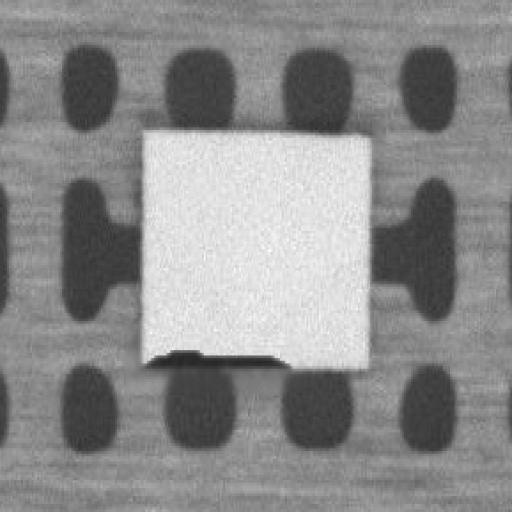DIE_BROKEN: (142, 337, 289, 369)
